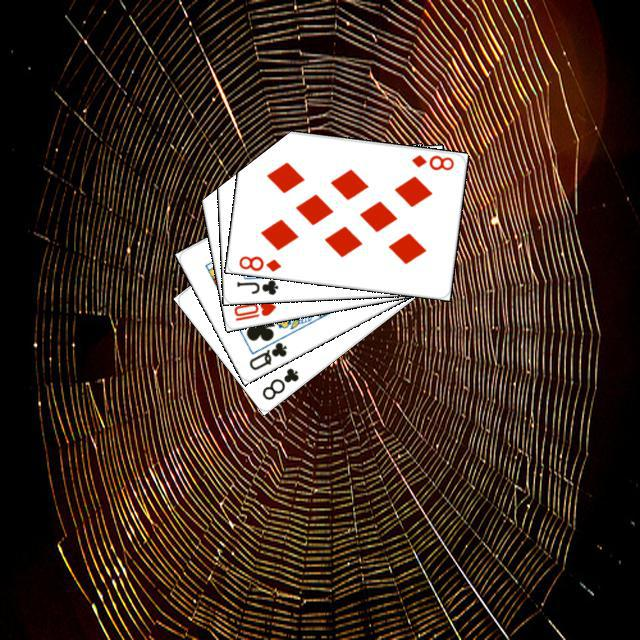10h: (229, 296, 278, 323)
8c: (257, 363, 301, 402)
8d: (407, 149, 455, 172), (234, 251, 283, 273)
Jc: (232, 275, 280, 297)
Qc: (244, 330, 289, 372)
